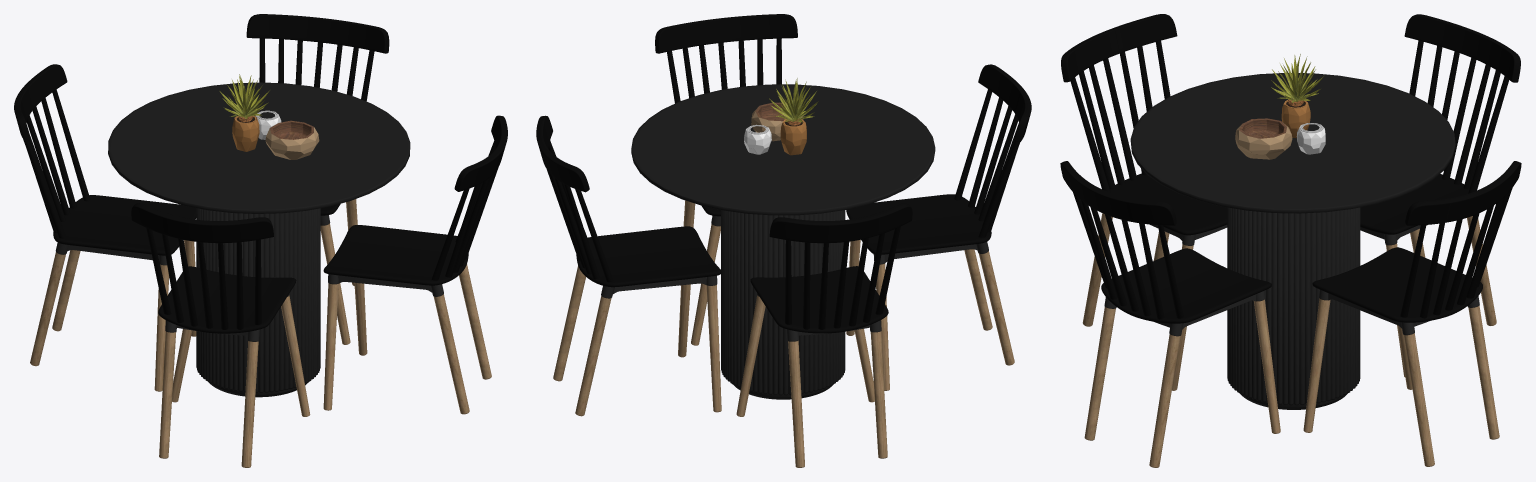
The model's file is kitchenTable-transformed.glb.
3 views of the same model, side by side, from view 1: azimuth 30°, elevation 25°; view 2: azimuth 150°, elevation 25°; view 3: azimuth 270°, elevation 25° (orthographic). The views are drawn at different scales.
Parts seen in each view (by area): view 1: NIUYAO Dining Table & janaina chair, 1 mesaaa_.004, 1 mesaaa_.005, 1 mesaaa_.007, 1 mesaaa_.006, 1 mesaaa_.002, 1 mesaaa_.003; view 2: NIUYAO Dining Table & janaina chair, 1 mesaaa_.007, 1 mesaaa_.006, 1 mesaaa_.004, 1 mesaaa_.005, 1 mesaaa_.002, 1 mesaaa_.003, 1 mesaaa_.001; view 3: NIUYAO Dining Table & janaina chair, 1 mesaaa_.006, 1 mesaaa_.005, 1 mesaaa_.004, 1 mesaaa_.007, 1 mesaaa_.002, 1 mesaaa_.003, 1 mesaaa_.001.
Part boxes in pixels (x1=…): NIUYAO Dining Table & janaina chair: x1=108, y1=82, x2=410, y2=397; 1 mesaaa_.004: x1=131, y1=203, x2=310, y2=467; 1 mesaaa_.005: x1=323, y1=115, x2=507, y2=414; 1 mesaaa_.007: x1=14, y1=64, x2=196, y2=391; 1 mesaaa_.006: x1=246, y1=14, x2=389, y2=344; 1 mesaaa_.002: x1=219, y1=74, x2=269, y2=151; 1 mesaaa_.003: x1=265, y1=120, x2=319, y2=159; NIUYAO Dining Table & janaina chair: x1=631, y1=84, x2=935, y2=399; 1 mesaaa_.007: x1=736, y1=203, x2=912, y2=467; 1 mesaaa_.006: x1=536, y1=115, x2=721, y2=416; 1 mesaaa_.004: x1=846, y1=64, x2=1031, y2=390; 1 mesaaa_.005: x1=655, y1=14, x2=797, y2=345; 1 mesaaa_.002: x1=769, y1=78, x2=818, y2=155; 1 mesaaa_.003: x1=751, y1=102, x2=803, y2=141; 1 mesaaa_.001: x1=744, y1=124, x2=771, y2=154; NIUYAO Dining Table & janaina chair: x1=1130, y1=73, x2=1455, y2=409; 1 mesaaa_.006: x1=1303, y1=161, x2=1521, y2=466; 1 mesaaa_.005: x1=1060, y1=161, x2=1280, y2=467; 1 mesaaa_.004: x1=1061, y1=14, x2=1227, y2=326; 1 mesaaa_.007: x1=1360, y1=14, x2=1520, y2=376; 1 mesaaa_.002: x1=1271, y1=54, x2=1324, y2=138; 1 mesaaa_.003: x1=1235, y1=118, x2=1292, y2=159; 1 mesaaa_.001: x1=1296, y1=123, x2=1325, y2=154.
Size of the model in its own units: 1.27 by 0.993 by 1.28.
Materials: 16 (6 with a texture image).
